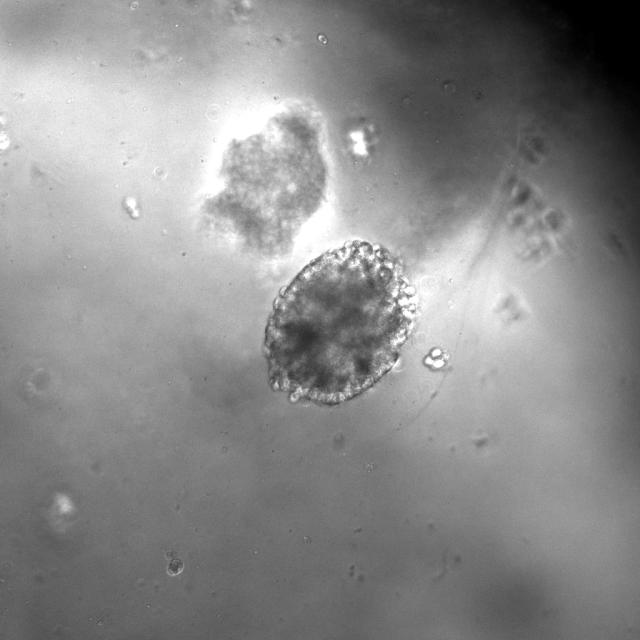organoid: (264, 240, 418, 405), (202, 104, 328, 257), (423, 346, 449, 371), (166, 552, 183, 575)
